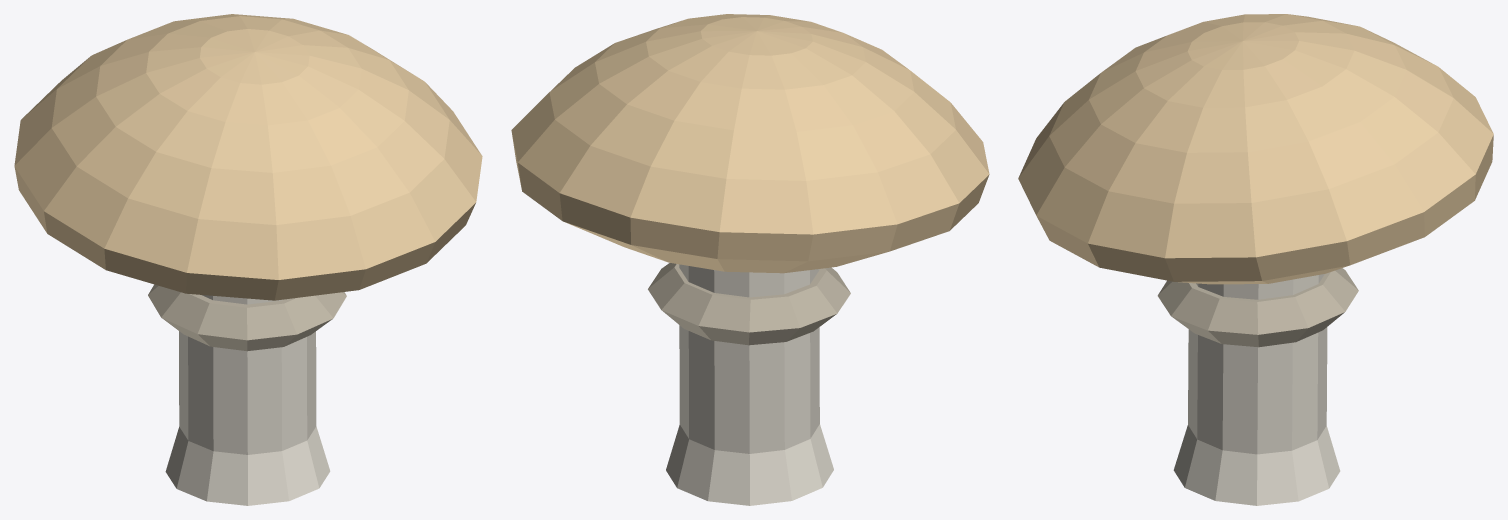
Rendered from Champignon_bigFlipped.fbx.
The picture shows the model from 3 angles, left to right: view 1: azimuth 30°, elevation 25°; view 2: azimuth 150°, elevation 25°; view 3: azimuth 270°, elevation 25°; orthographic projection. The views are drawn at different scales.
Visible parts, largest first — view 1: Sphere; view 2: Sphere; view 3: Sphere.
Boxes of the visible parts, x1=… form: Sphere: x1=14, y1=14, x2=482, y2=505; Sphere: x1=511, y1=14, x2=989, y2=505; Sphere: x1=1018, y1=14, x2=1493, y2=505.
Size of the model in its own units: 92.14 by 91.48 by 91.65.
